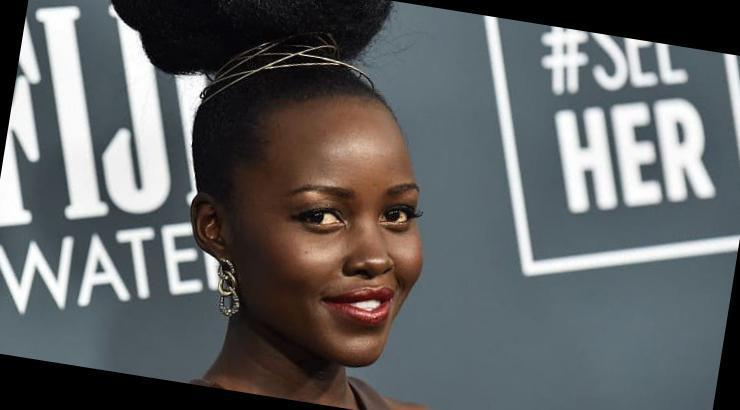Sober: (272, 117, 426, 363)
